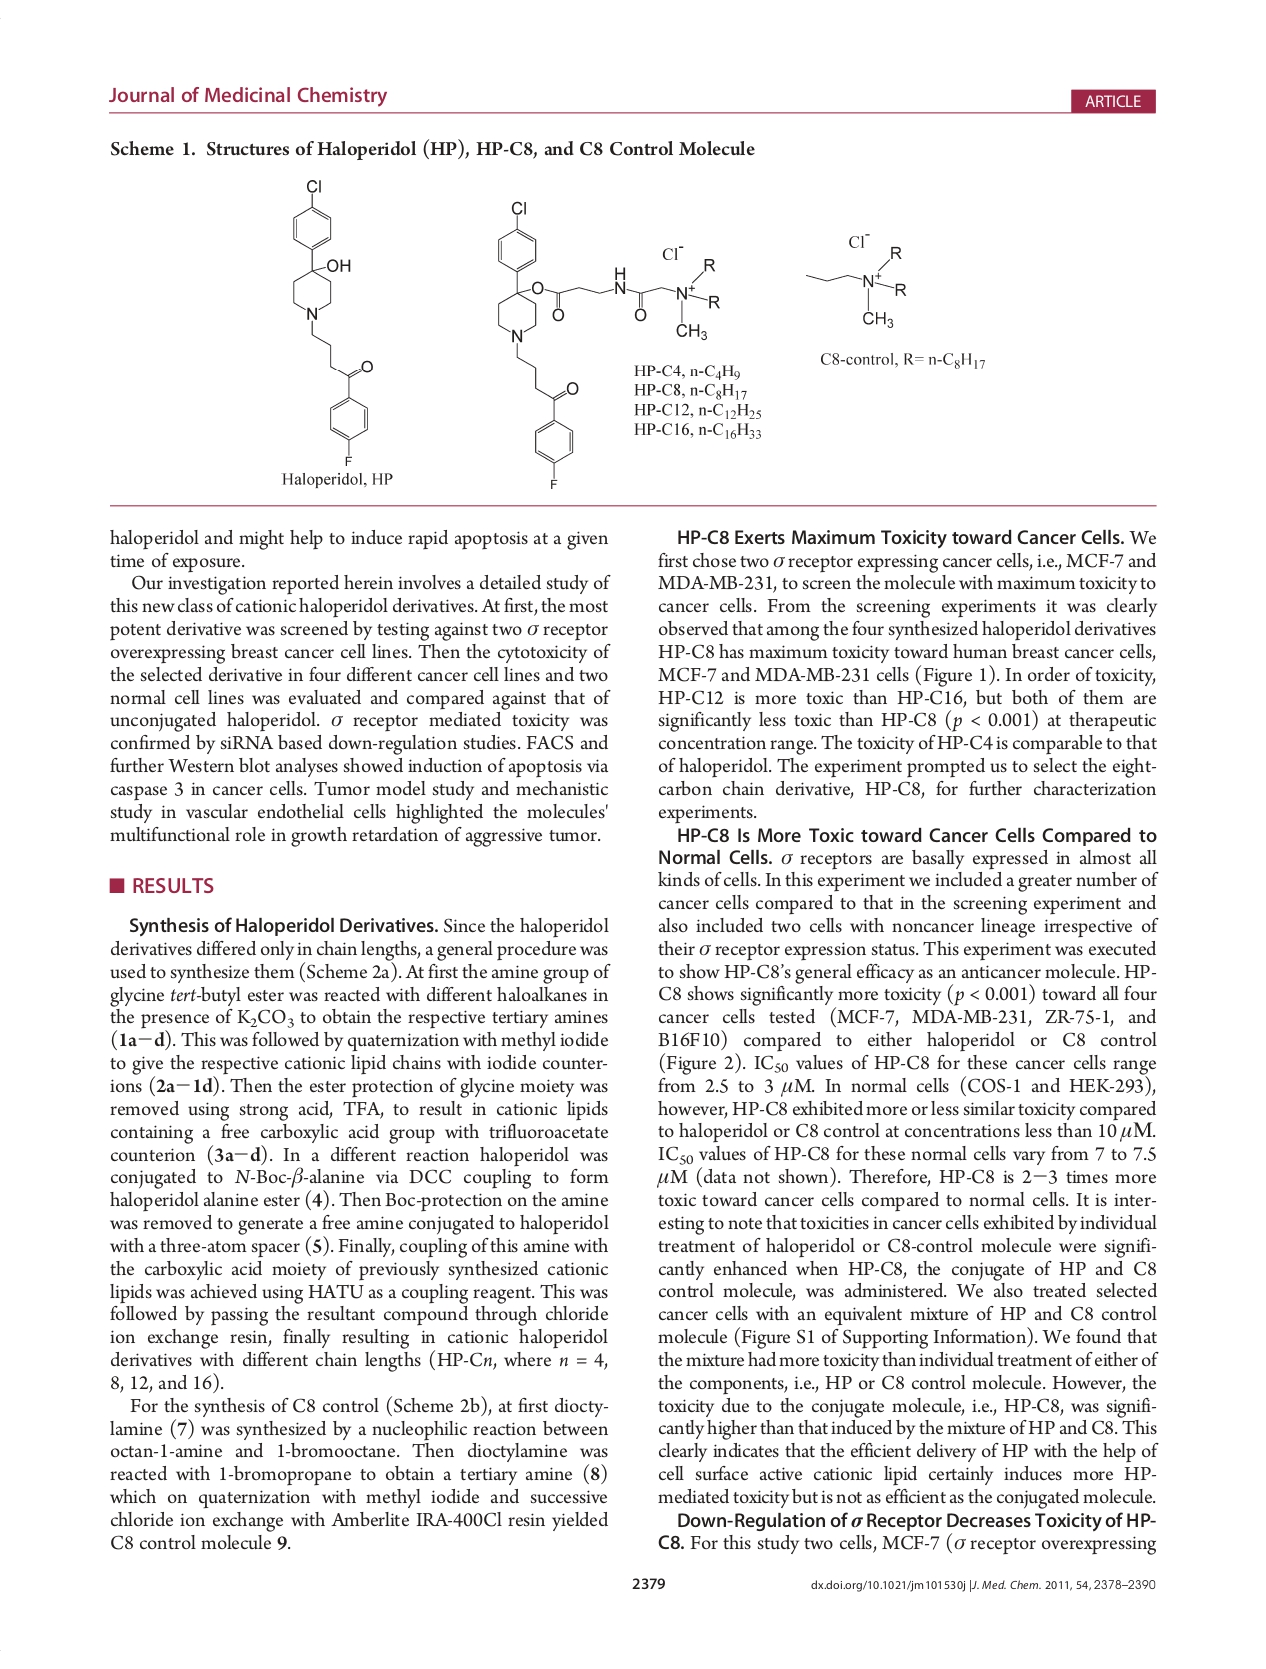exist_molecular: (493, 193, 723, 492), (281, 174, 374, 467), (803, 229, 910, 330)
